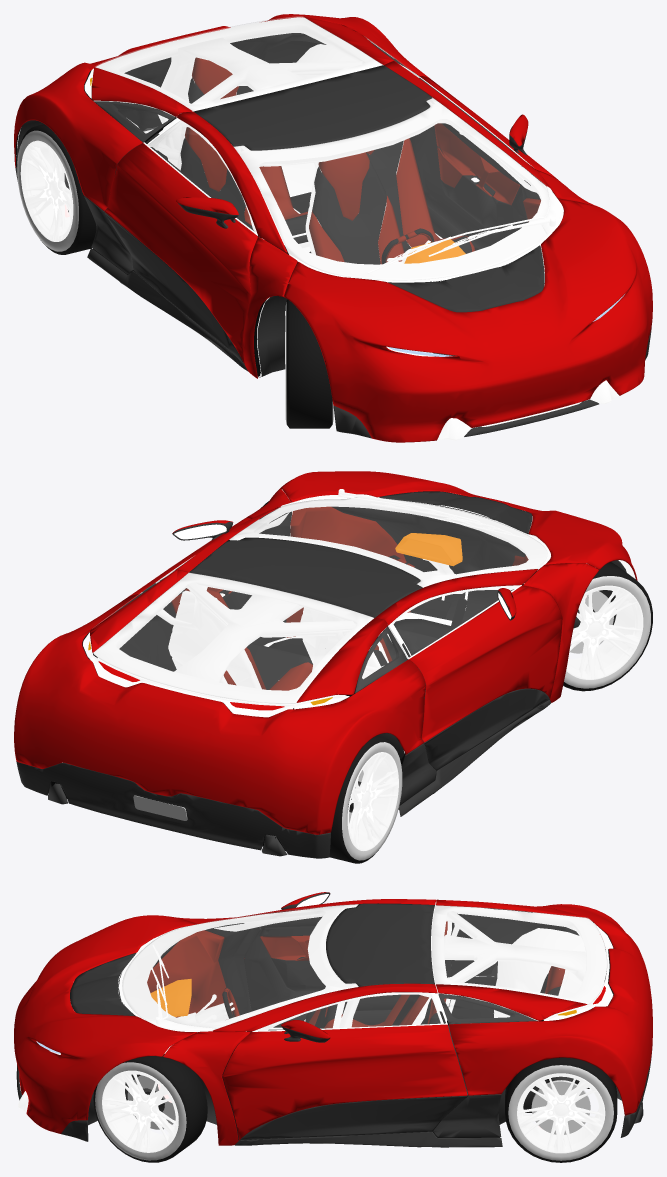
Rendered from car.glb.
3 views of the same model, one above another, from view 1: azimuth 30°, elevation 25°; view 2: azimuth 150°, elevation 25°; view 3: azimuth 270°, elevation 25° (orthographic). The views are drawn at different scales.
Parts seen in each view (by area): view 1: BodyHood, BodyWindshield, BodyRearwindow, BodyDoorRColor1, BodyRearPanelsColor1, BodyRoofPanel, BodyWindshieldGasket, InteriorSeatsColor1, InteriorSeatsColor2, BodyPillars, InteriorPillar, InteriorRearHatch (+21 smaller); view 2: BodyRearPanelsColor1, BodyRearwindow, BodyWindshield, BodyDoorRColor1, BodyPanelsColor2, BodyRoofPanel, BodyHood, InteriorRearHatch, BodyPillars, InteriorPillar, InteriorDashMid, BodyWindshieldGasket (+22 smaller); view 3: BodyRearPanelsColor1, BodyWindshield, BodyDoorLColor1, BodyHood, BodyRearwindow, BodyRoofPanel, BodyPillars, BodyWindshieldGasket, BodyDoorLColor2, BodyPanelsColor2, WheelFrontL, InteriorRearHatch (+25 smaller).
Boxes of the visible parts, x1,y1,x2,y2 form: BodyHood: [283, 198, 652, 442]; BodyWindshield: [234, 98, 549, 280]; BodyRearwindow: [95, 16, 382, 110]; BodyDoorRColor1: [104, 143, 257, 363]; BodyRearPanelsColor1: [14, 14, 429, 210]; BodyRoofPanel: [193, 65, 432, 150]; BodyWindshieldGasket: [234, 99, 563, 282]; InteriorSeatsColor1: [185, 57, 475, 264]; InteriorSeatsColor2: [180, 77, 471, 264]; BodyPillars: [176, 61, 599, 378]; InteriorPillar: [158, 37, 434, 168]; InteriorRearHatch: [94, 17, 383, 117]; BodyRearPanelsColor1: [14, 569, 425, 834]; BodyRearwindow: [92, 573, 373, 703]; BodyWindshield: [229, 497, 547, 587]; BodyDoorRColor1: [409, 585, 562, 742]; BodyPanelsColor2: [16, 700, 550, 858]; BodyRoofPanel: [189, 537, 422, 617]; BodyHood: [279, 471, 637, 580]; InteriorRearHatch: [93, 573, 386, 707]; BodyPillars: [175, 489, 599, 702]; InteriorPillar: [174, 574, 417, 682]; InteriorDashMid: [331, 503, 528, 622]; BodyWindshieldGasket: [230, 497, 550, 587]; BodyRearPanelsColor1: [436, 899, 652, 1115]; BodyWindshield: [122, 904, 357, 1028]; BodyDoorLColor1: [222, 1024, 467, 1140]; BodyHood: [14, 915, 196, 1133]; BodyRearwindow: [432, 905, 606, 1003]; BodyRoofPanel: [326, 903, 434, 986]; BodyPillars: [163, 899, 437, 1145]; BodyWindshieldGasket: [118, 905, 357, 1032]; BodyDoorLColor2: [240, 1096, 467, 1140]; BodyPanelsColor2: [16, 1045, 652, 1147]; WheelFrontL: [93, 1054, 207, 1162]; InteriorRearHatch: [432, 905, 606, 1020].
Size of the model in its own units: 2.54 by 1.15 by 4.36.
